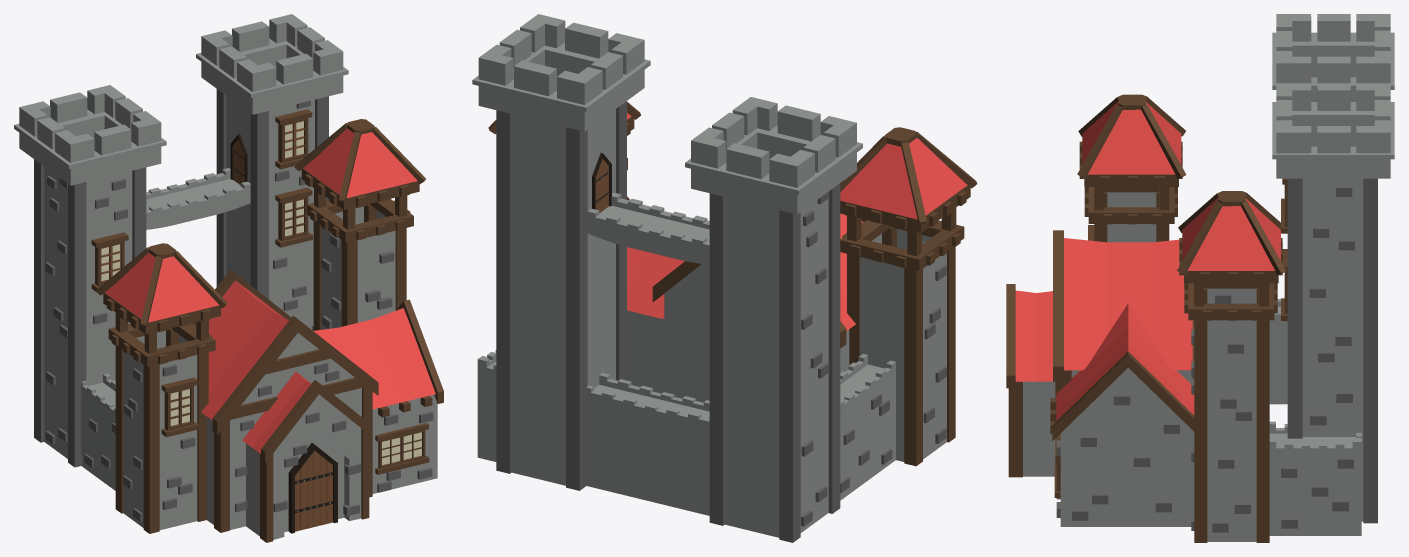
Rendered from Castle.fbx.
3 renders of one model, left to right at view 1: azimuth 30°, elevation 25°; view 2: azimuth 150°, elevation 25°; view 3: azimuth 270°, elevation 25°, orthographic. The views are drawn at different scales.
Visible parts, largest first — view 1: Plane.024; view 2: Plane.024; view 3: Plane.024.
Boxes of the visible parts, x1,y1,x2,y2 form: Plane.024: (14,14,443,542); Plane.024: (472,14,977,542); Plane.024: (1006,14,1394,542).
Bounding box in the file's own units: 911 × 934 × 831.
